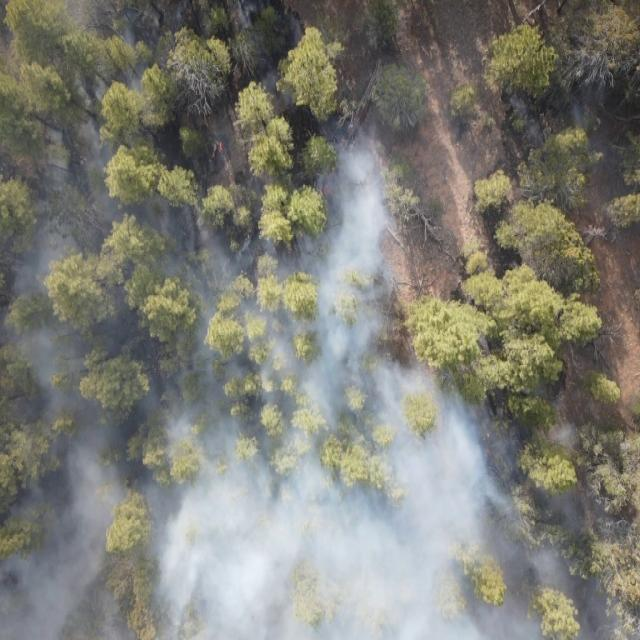fire: (320, 165, 340, 196), (208, 137, 224, 161)
smoke: (0, 124, 411, 640), (518, 411, 598, 640), (412, 364, 466, 640), (465, 392, 518, 640), (510, 81, 614, 195), (74, 17, 160, 123), (235, 0, 305, 122), (599, 519, 640, 640), (58, 0, 196, 35)
